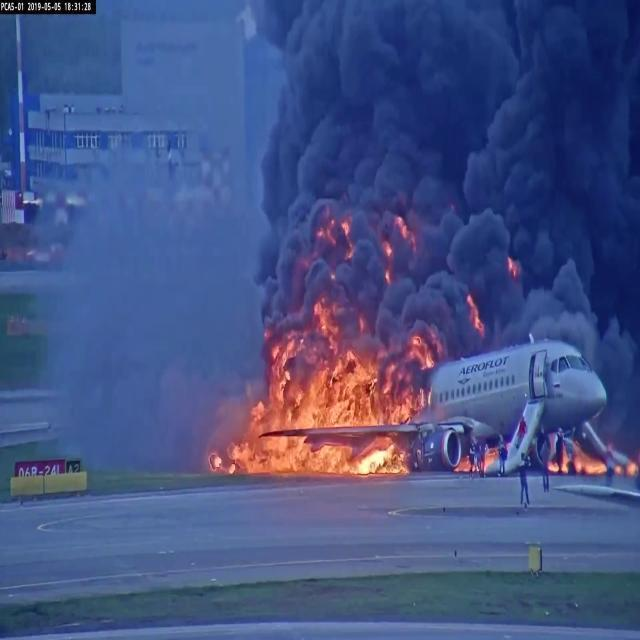Fire: (269, 360, 428, 415), (256, 442, 397, 470)
Smoke: (295, 2, 640, 286)
